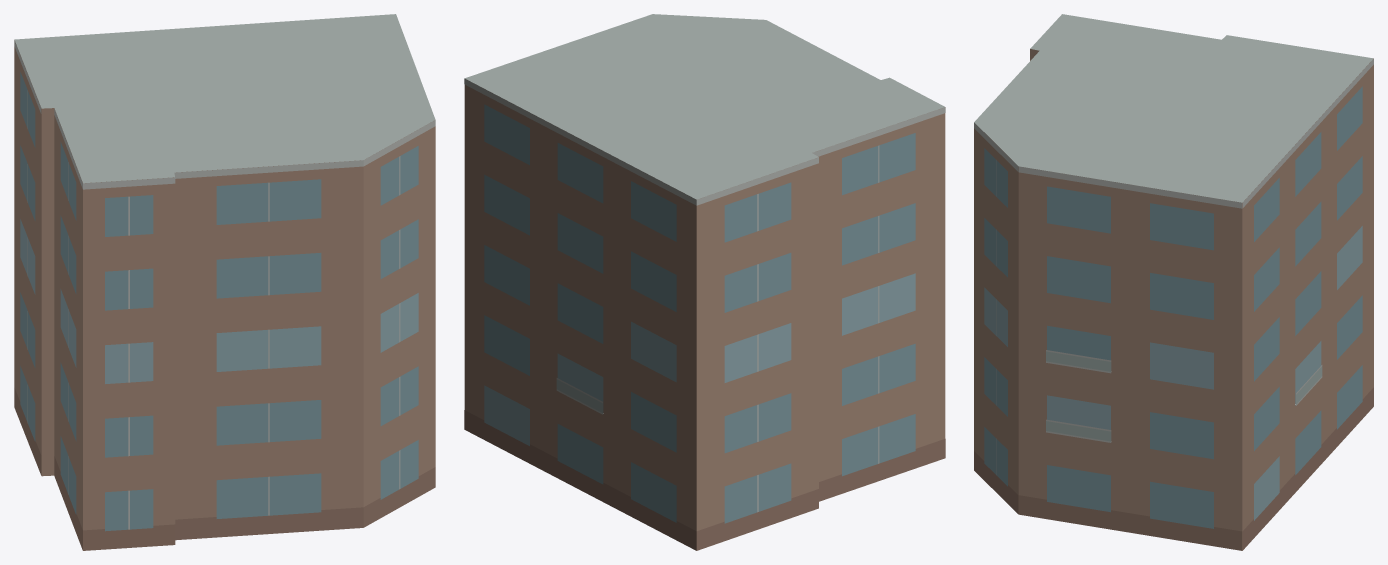
The model's file is survey-upis-32875197.glb.
The picture shows the model from 3 angles, left to right: view 1: azimuth 30°, elevation 25°; view 2: azimuth 150°, elevation 25°; view 3: azimuth 270°, elevation 25°; orthographic projection. The views are drawn at different scales.
Parts seen in each view (by area): view 1: survey-upis-32875197.tmp; view 2: survey-upis-32875197.tmp; view 3: survey-upis-32875197.tmp.
Part boxes in pixels (x1=…): survey-upis-32875197.tmp: x1=14, y1=14, x2=435, y2=550; survey-upis-32875197.tmp: x1=464, y1=14, x2=945, y2=550; survey-upis-32875197.tmp: x1=974, y1=14, x2=1373, y2=550.
Bounding box in the file's own units: 16.39 × 14.1 × 14.68.
